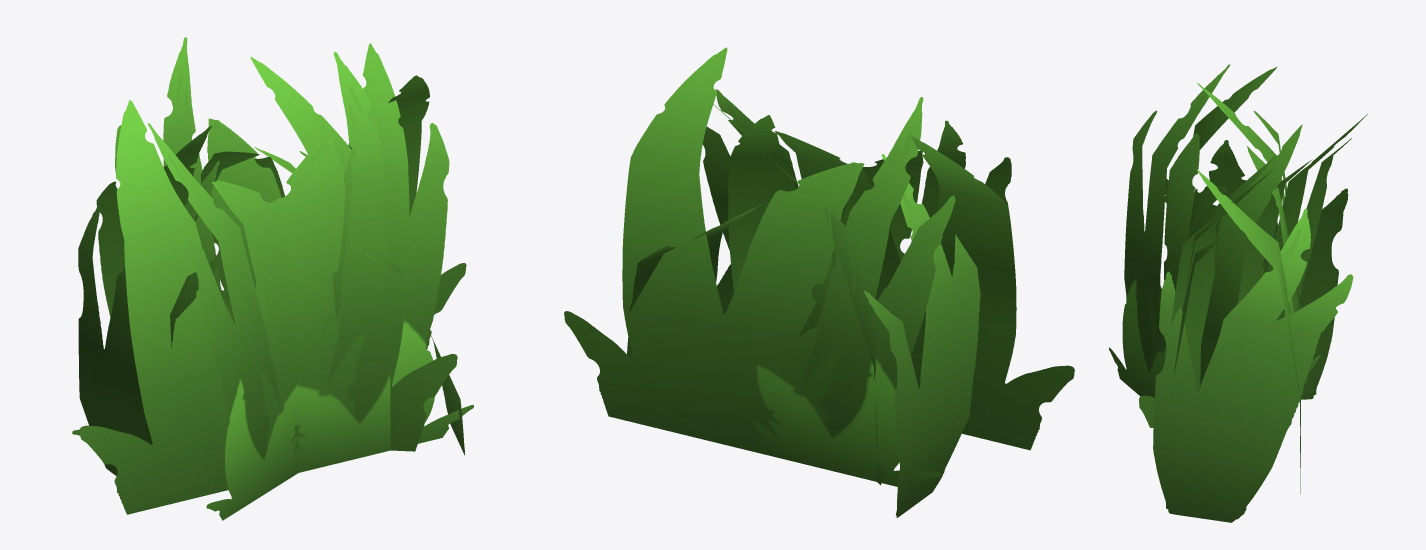
File: Grass.fbx
The picture shows the model from 3 angles, left to right: view 1: azimuth 30°, elevation 25°; view 2: azimuth 150°, elevation 25°; view 3: azimuth 270°, elevation 25°; orthographic projection. The views are drawn at different scales.
Parts seen in each view (by area): view 1: pPlane14; view 2: pPlane14; view 3: pPlane14.
Boxes of the visible parts, box(x1,y1,x2,y2) form: pPlane14: box(72, 37, 473, 520); pPlane14: box(564, 47, 1074, 517); pPlane14: box(1109, 64, 1367, 522).
Bounding box in the file's own units: 103 × 81.8 × 66.53.
